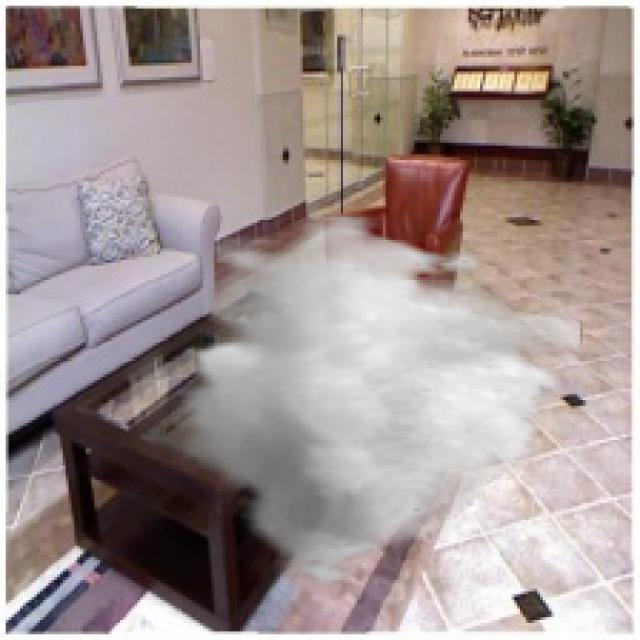Smoke: (171, 215, 583, 594)
